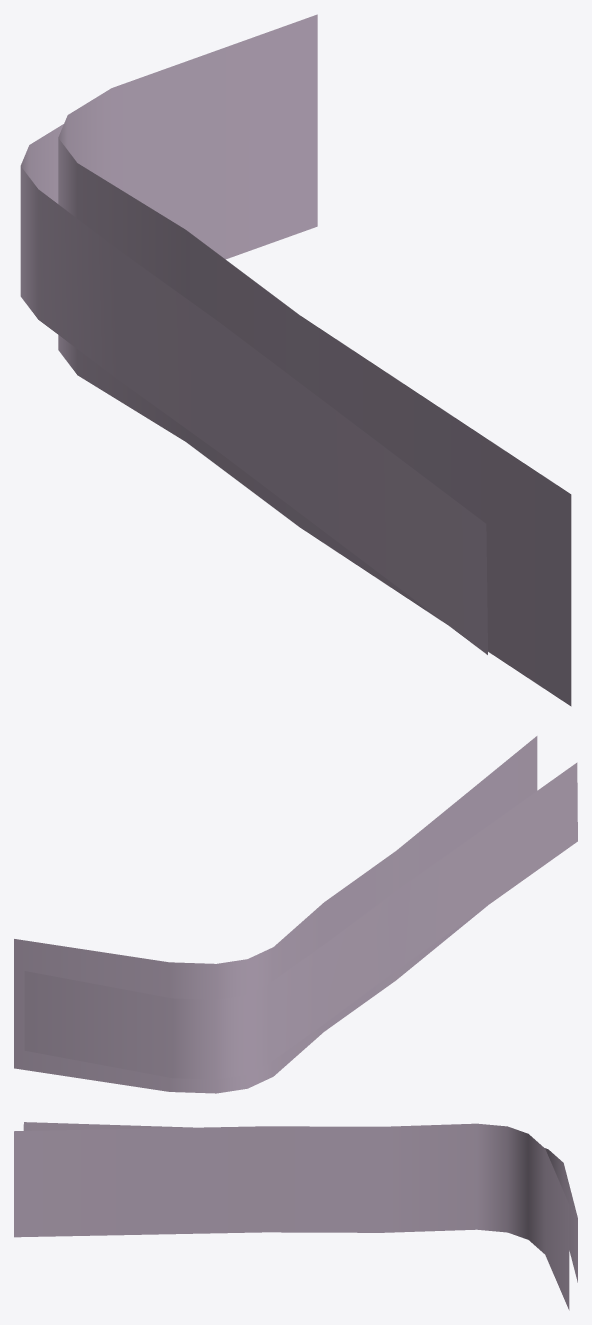
The picture shows the model from 3 angles, top to bottom: view 1: azimuth 30°, elevation 25°; view 2: azimuth 150°, elevation 25°; view 3: azimuth 270°, elevation 25°; orthographic projection. The views are drawn at different scales.
Visible parts, largest first — view 1: Object78; view 2: Object78; view 3: Object78.
Part boxes in pixels (box(x1,y1,x2,y2)): Object78: box(20, 14, 571, 706); Object78: box(14, 736, 577, 1093); Object78: box(14, 1122, 577, 1310).
Bounding box in the file's own units: 22041 × 11864 × 57143.
